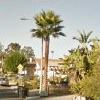Palm tree: (29, 7, 64, 92)
